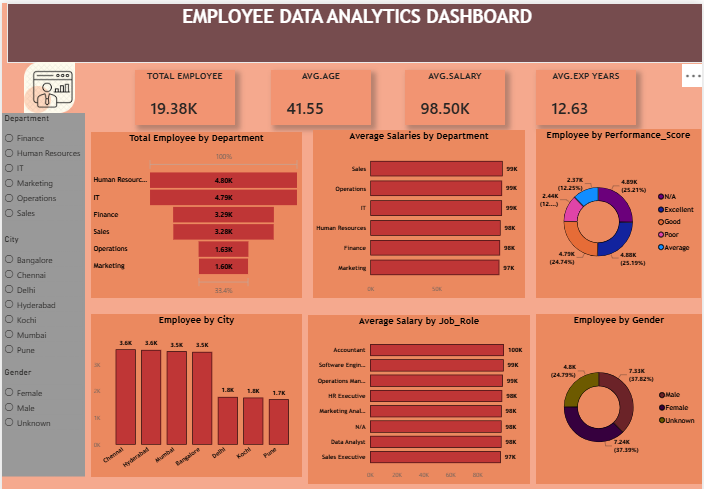

The dashboard page shown, as its layout file describes it:
{"tool":"powerbi","page":{"name":"Page 1","canvas":[1400,1100],"ordinal":0},"visuals":[{"type":"textbox","box":[10,0,1400,120],"z":0},{"type":"cardVisual","title":"TOTAL EMPLOYEE","fields":{"Data":["CountNonNull(employee_datas (2).Employee_ID)"]},"box":[266.7,133.3,200,110],"z":1000},{"type":"cardVisual","title":"AVG.AGE","fields":{"Data":["Avg(employee_datas (2).Age)"]},"box":[538.3,133.3,200,110],"z":2000},{"type":"cardVisual","title":"AVG.SALARY","fields":{"Data":["Avg(employee_datas (2).Salary)"]},"box":[806.7,133.3,200,110],"z":3000},{"type":"cardVisual","title":"AVG.EXP YEARS","fields":{"Data":["Avg(employee_datas (2).Experience_Years)"]},"box":[1068.3,133.3,200,110],"z":4000},{"type":"funnel","title":"Total Employee by Department","fields":{"Category":["employee_datas (2).Department"],"Y":["CountNonNull(employee_datas (2).Employee_ID)"]},"box":[178,258,422,332],"z":5000},{"type":"clusteredBarChart","fields":{"Category":["employee_datas (2).Department"],"Y":["employee_datas (2).Average Salaries"]},"box":[622,254,424,336],"z":6000},{"type":"donutChart","title":"Employee  by Gender ","fields":{"Category":["employee_datas (2).Gender"],"Y":["Count(employee_datas (2).Employee_ID)"]},"box":[1068,622,332,340],"z":7000},{"type":"barChart","title":"Average Salary by Job_Role","fields":{"Y":["Avg(employee_datas (2).Salary)"],"Category":["employee_datas (2).Job_Role"]},"box":[612,624,444,338],"z":8000},{"type":"clusteredColumnChart","title":"Employee by City","fields":{"Category":["employee_datas (2).City"],"Y":["Count(employee_datas (2).Employee_ID)"]},"box":[178,622,422,326],"z":9000},{"type":"donutChart","title":"Employee by Performance_Score","fields":{"Category":["employee_datas (2).Performance_Score"],"Y":["Count(employee_datas (2).Employee_ID)"]},"box":[1068,252,330,338],"z":10000},{"type":"listSlicer","fields":{"Values":["employee_datas (2).Department"]},"box":[0,220,166.2,242.5],"z":10001},{"type":"listSlicer","fields":{"Values":["employee_datas (2).City"]},"box":[0,462,166,266],"z":10002},{"type":"listSlicer","fields":{"Values":["employee_datas (2).Gender"]},"box":[0,728,166,219],"z":10003},{"type":"image","box":[12,118,166,102],"z":10004}]}

Visuals, with their boxes on the page's 1400x1100 design canvas (x1, y1, x2, y2). These are canvas units, not pixel positions in the 704x489 screenshot, which may show the page scaled, cropped or inside an application window:
textbox: <box>10,0,1410,120</box>
"TOTAL EMPLOYEE" cardVisual: <box>267,133,467,243</box>
"AVG.AGE" cardVisual: <box>538,133,738,243</box>
"AVG.SALARY" cardVisual: <box>807,133,1007,243</box>
"AVG.EXP YEARS" cardVisual: <box>1068,133,1268,243</box>
"Total Employee by Department" funnel: <box>178,258,600,590</box>
clusteredBarChart - employee_datas (2).Department x employee_datas (2).Average Salaries: <box>622,254,1046,590</box>
"Employee  by Gender " donutChart: <box>1068,622,1400,962</box>
"Average Salary by Job_Role" barChart: <box>612,624,1056,962</box>
"Employee by City" clusteredColumnChart: <box>178,622,600,948</box>
"Employee by Performance_Score" donutChart: <box>1068,252,1398,590</box>
listSlicer - employee_datas (2).Department: <box>0,220,166,462</box>
listSlicer - employee_datas (2).City: <box>0,462,166,728</box>
listSlicer - employee_datas (2).Gender: <box>0,728,166,947</box>
image: <box>12,118,178,220</box>
